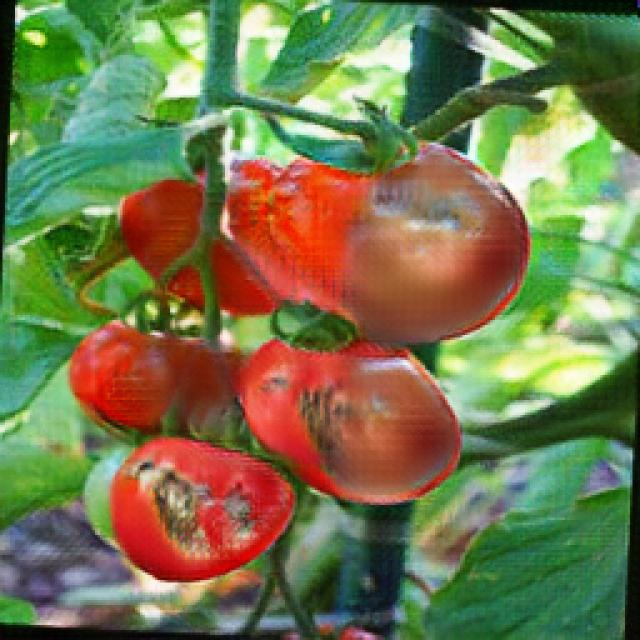overripe tomato: (268, 138, 523, 354), (252, 339, 468, 511), (112, 431, 291, 583)
